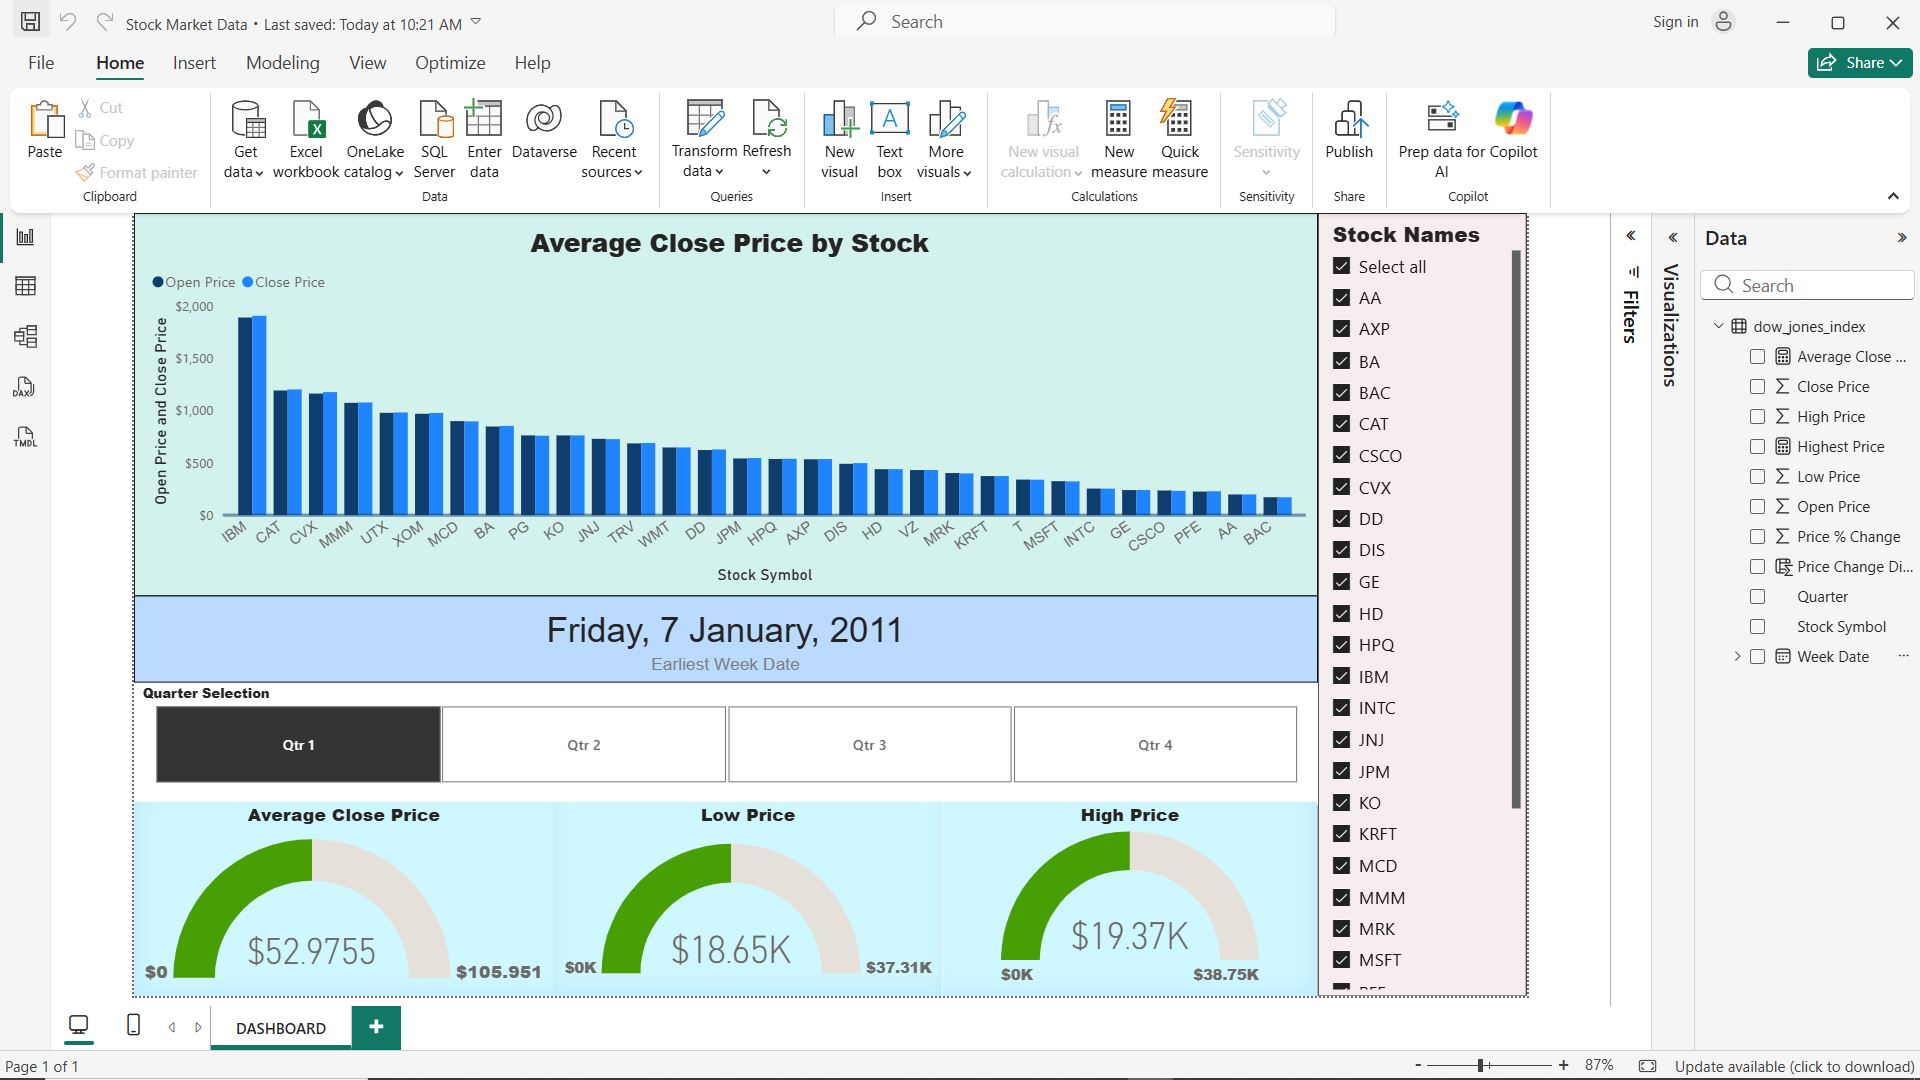

This screenshot's page, from the dashboard's own definition file:
{"tool":"powerbi","page":{"name":"DASHBOARD","canvas":[1280,720],"ordinal":0},"visuals":[{"type":"slicer","fields":{"Values":["dow_jones_index. stock name "]},"box":[1088,0,192,720],"z":0},{"type":"clusteredColumnChart","title":"Average Close Price by Stock","fields":{"Category":["dow_jones_index.Stock Symbol"],"Y":["Sum(dow_jones_index.Open Price)","Sum(dow_jones_index.Close Price)"]},"box":[0,0,1088,352],"z":1000},{"type":"slicer","fields":{"Values":["dow_jones_index.Week Date.Variation.Date Hierarchy.Quarter"]},"box":[0,432,1088,112],"z":2000},{"type":"card","fields":{"Values":["Min(dow_jones_index.Week Date)"]},"box":[0,352,1088,80],"z":3000},{"type":"gauge","title":"Average Close Price","fields":{"Y":["dow_jones_index.Average Close Price"]},"box":[0,540.7,386,179.1],"z":4000},{"type":"gauge","title":"Low Price","fields":{"Y":["Sum(dow_jones_index.Low Price)"]},"box":[386,540.7,357,179.1],"z":5000},{"type":"gauge","title":"High Price","fields":{"Y":["Sum(dow_jones_index.High Price)"]},"box":[743,540.7,344.2,179.1],"z":6000}]}

Visuals, with their boxes on the page's 1280x720 design canvas (x1, y1, x2, y2). These are canvas units, not pixel positions in the 1920x1080 screenshot, which may show the page scaled, cropped or inside an application window:
slicer - dow_jones_index. stock name : rect(1088, 0, 1280, 720)
"Average Close Price by Stock" clusteredColumnChart: rect(0, 0, 1088, 352)
slicer - dow_jones_index.Week Date.Variation.Date Hierarchy.Quarter: rect(0, 432, 1088, 544)
card - Min(dow_jones_index.Week Date): rect(0, 352, 1088, 432)
"Average Close Price" gauge: rect(0, 541, 386, 720)
"Low Price" gauge: rect(386, 541, 743, 720)
"High Price" gauge: rect(743, 541, 1087, 720)
